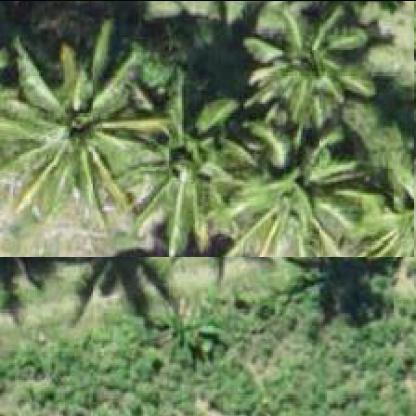coconut tree: (0, 1, 415, 258)
